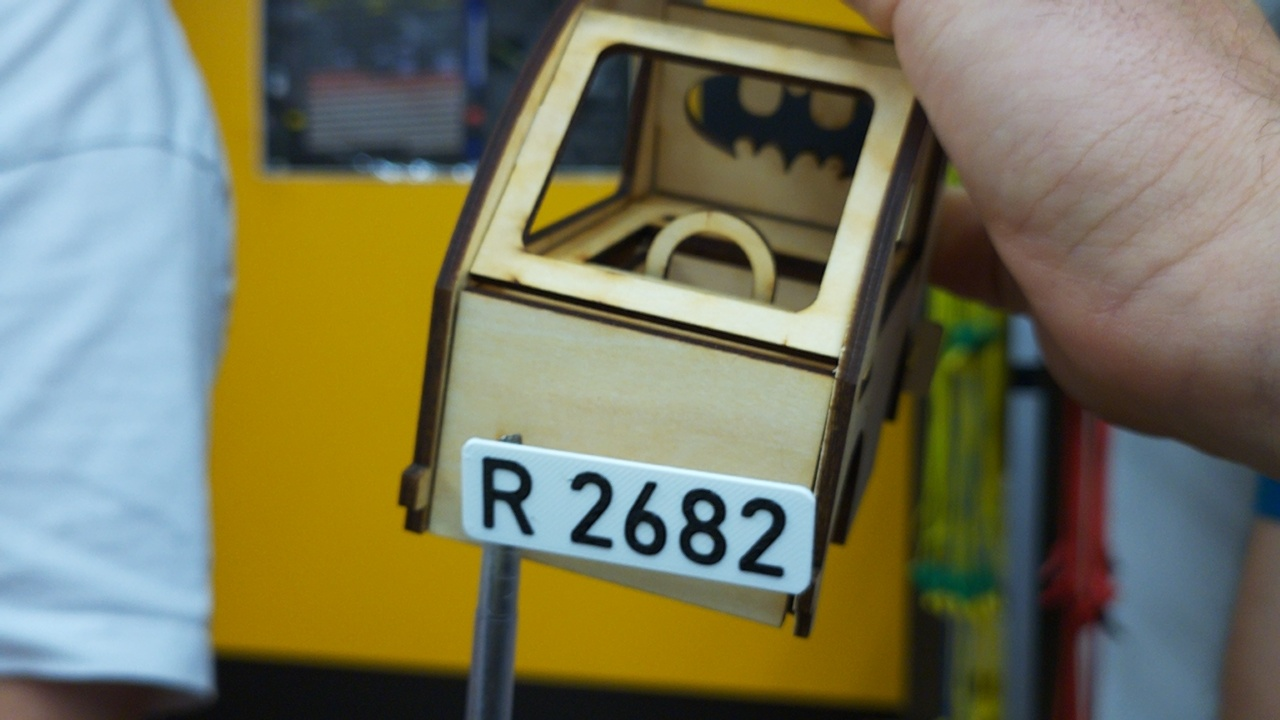license_plate: (459, 434, 817, 597)
